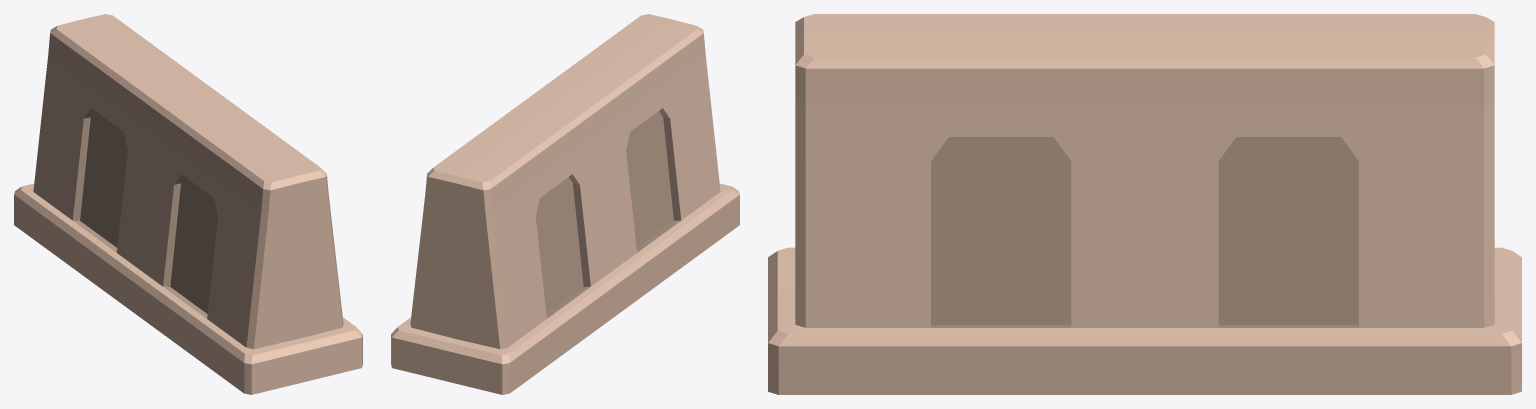
File: Barrier.fbx
3 views of the same model, side by side, from view 1: azimuth 30°, elevation 25°; view 2: azimuth 150°, elevation 25°; view 3: azimuth 270°, elevation 25° (orthographic). The views are drawn at different scales.
Visible parts, largest first — view 1: Barrier_Norm; view 2: Barrier_Norm; view 3: Barrier_Norm.
Part boxes in pixels (x1,y1,x2,y2): Barrier_Norm: (14,14,362,394); Barrier_Norm: (391,14,739,394); Barrier_Norm: (768,14,1521,394).
Size of the model in its own units: 160 by 254 by 554.
